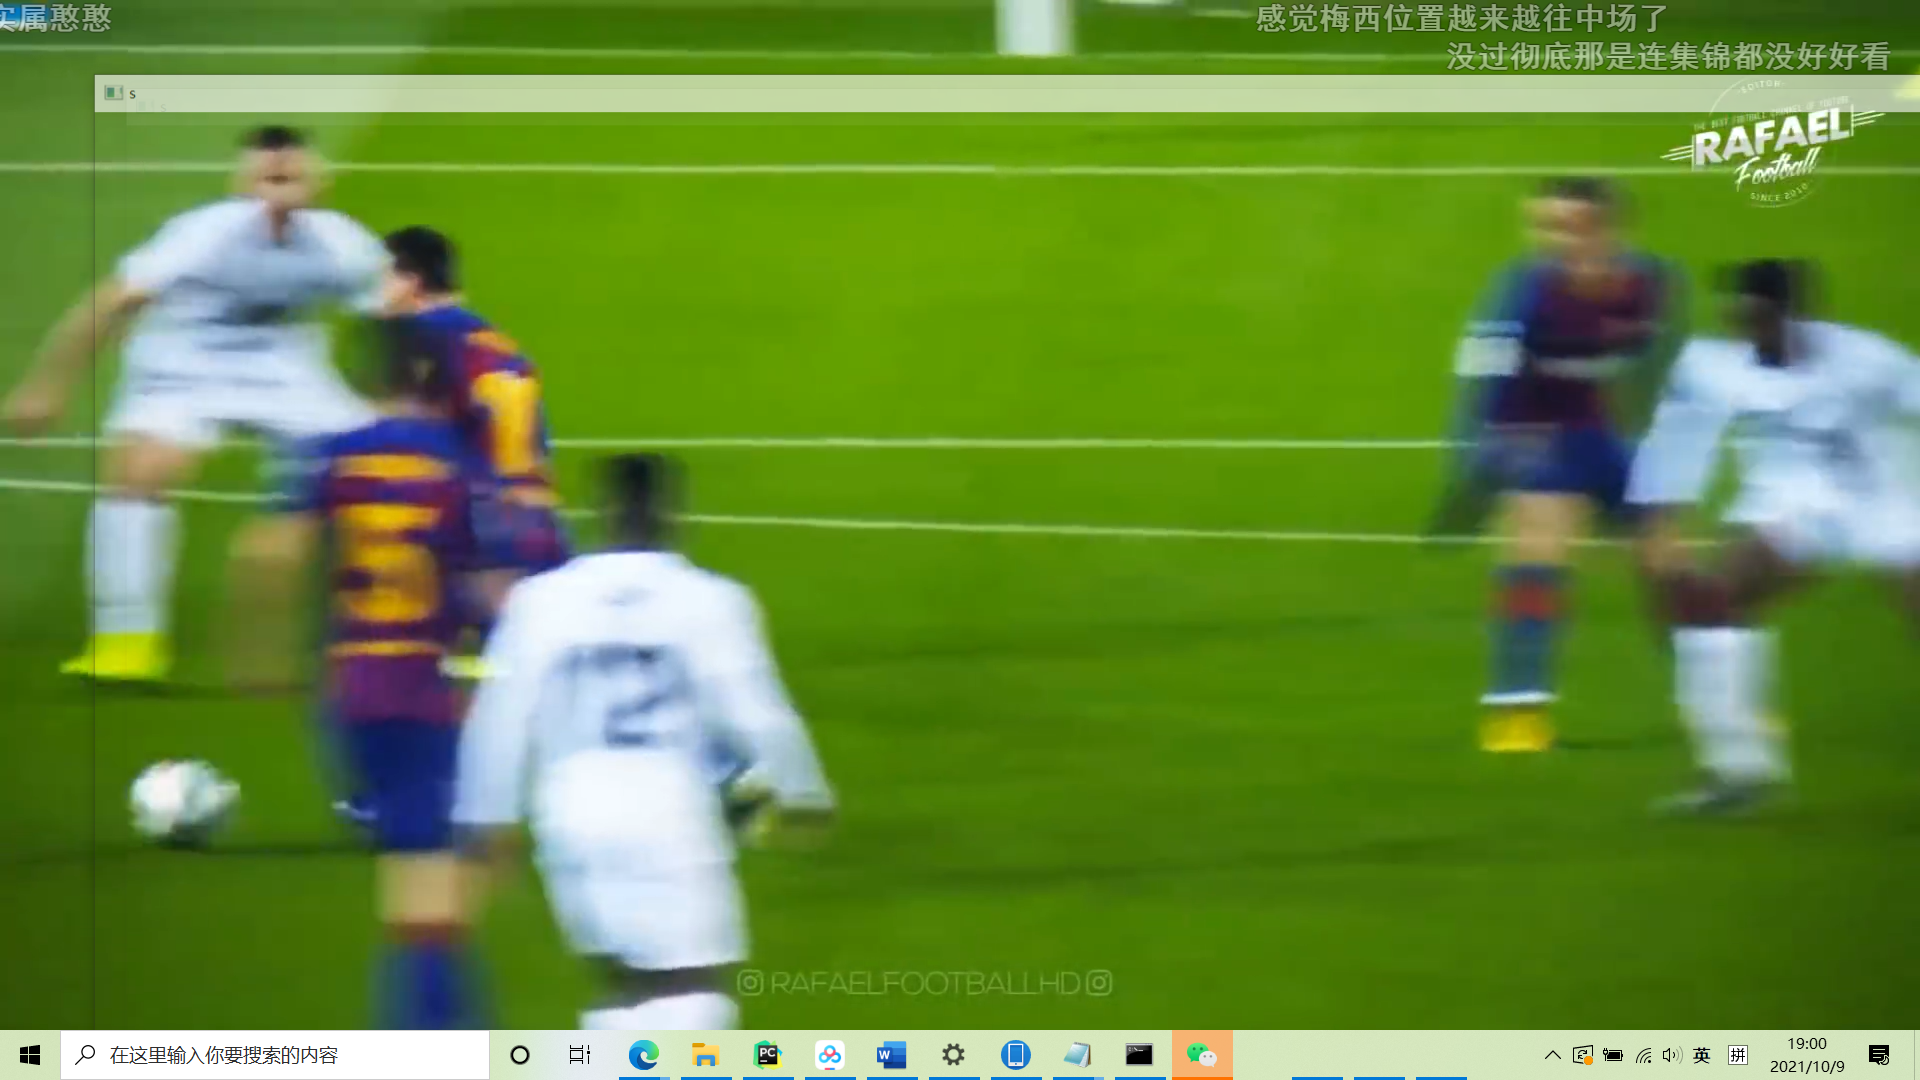ft: (119, 752, 251, 870)
